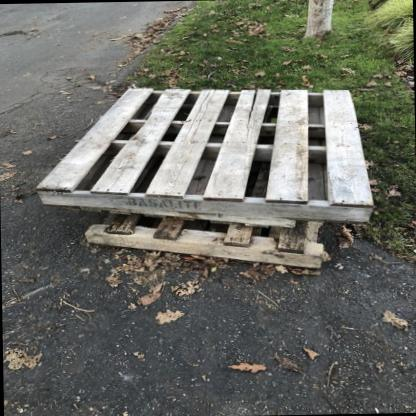BoxFace: (33, 84, 371, 222)
